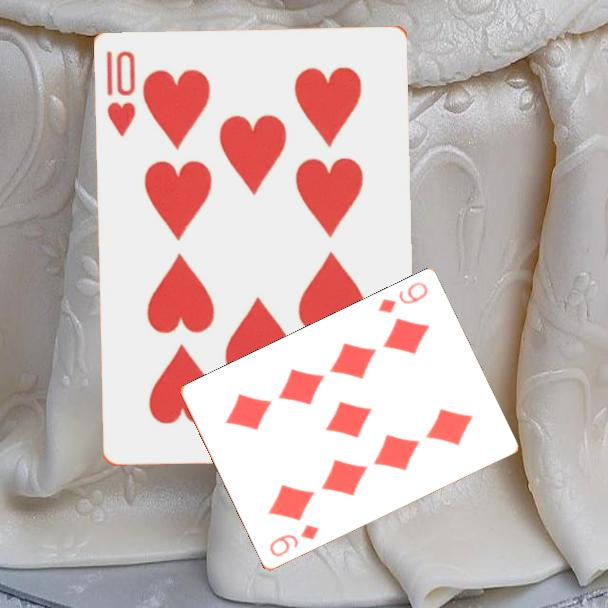d09: (374, 278, 431, 317), (266, 521, 322, 560)
h10: (103, 48, 139, 139)
